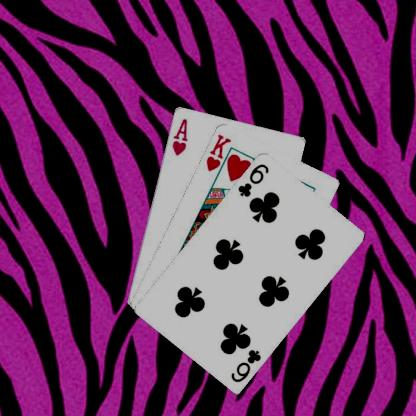6C: (235, 160, 270, 198), (228, 346, 262, 383)
AH: (169, 116, 189, 156)
KH: (203, 131, 232, 172)
